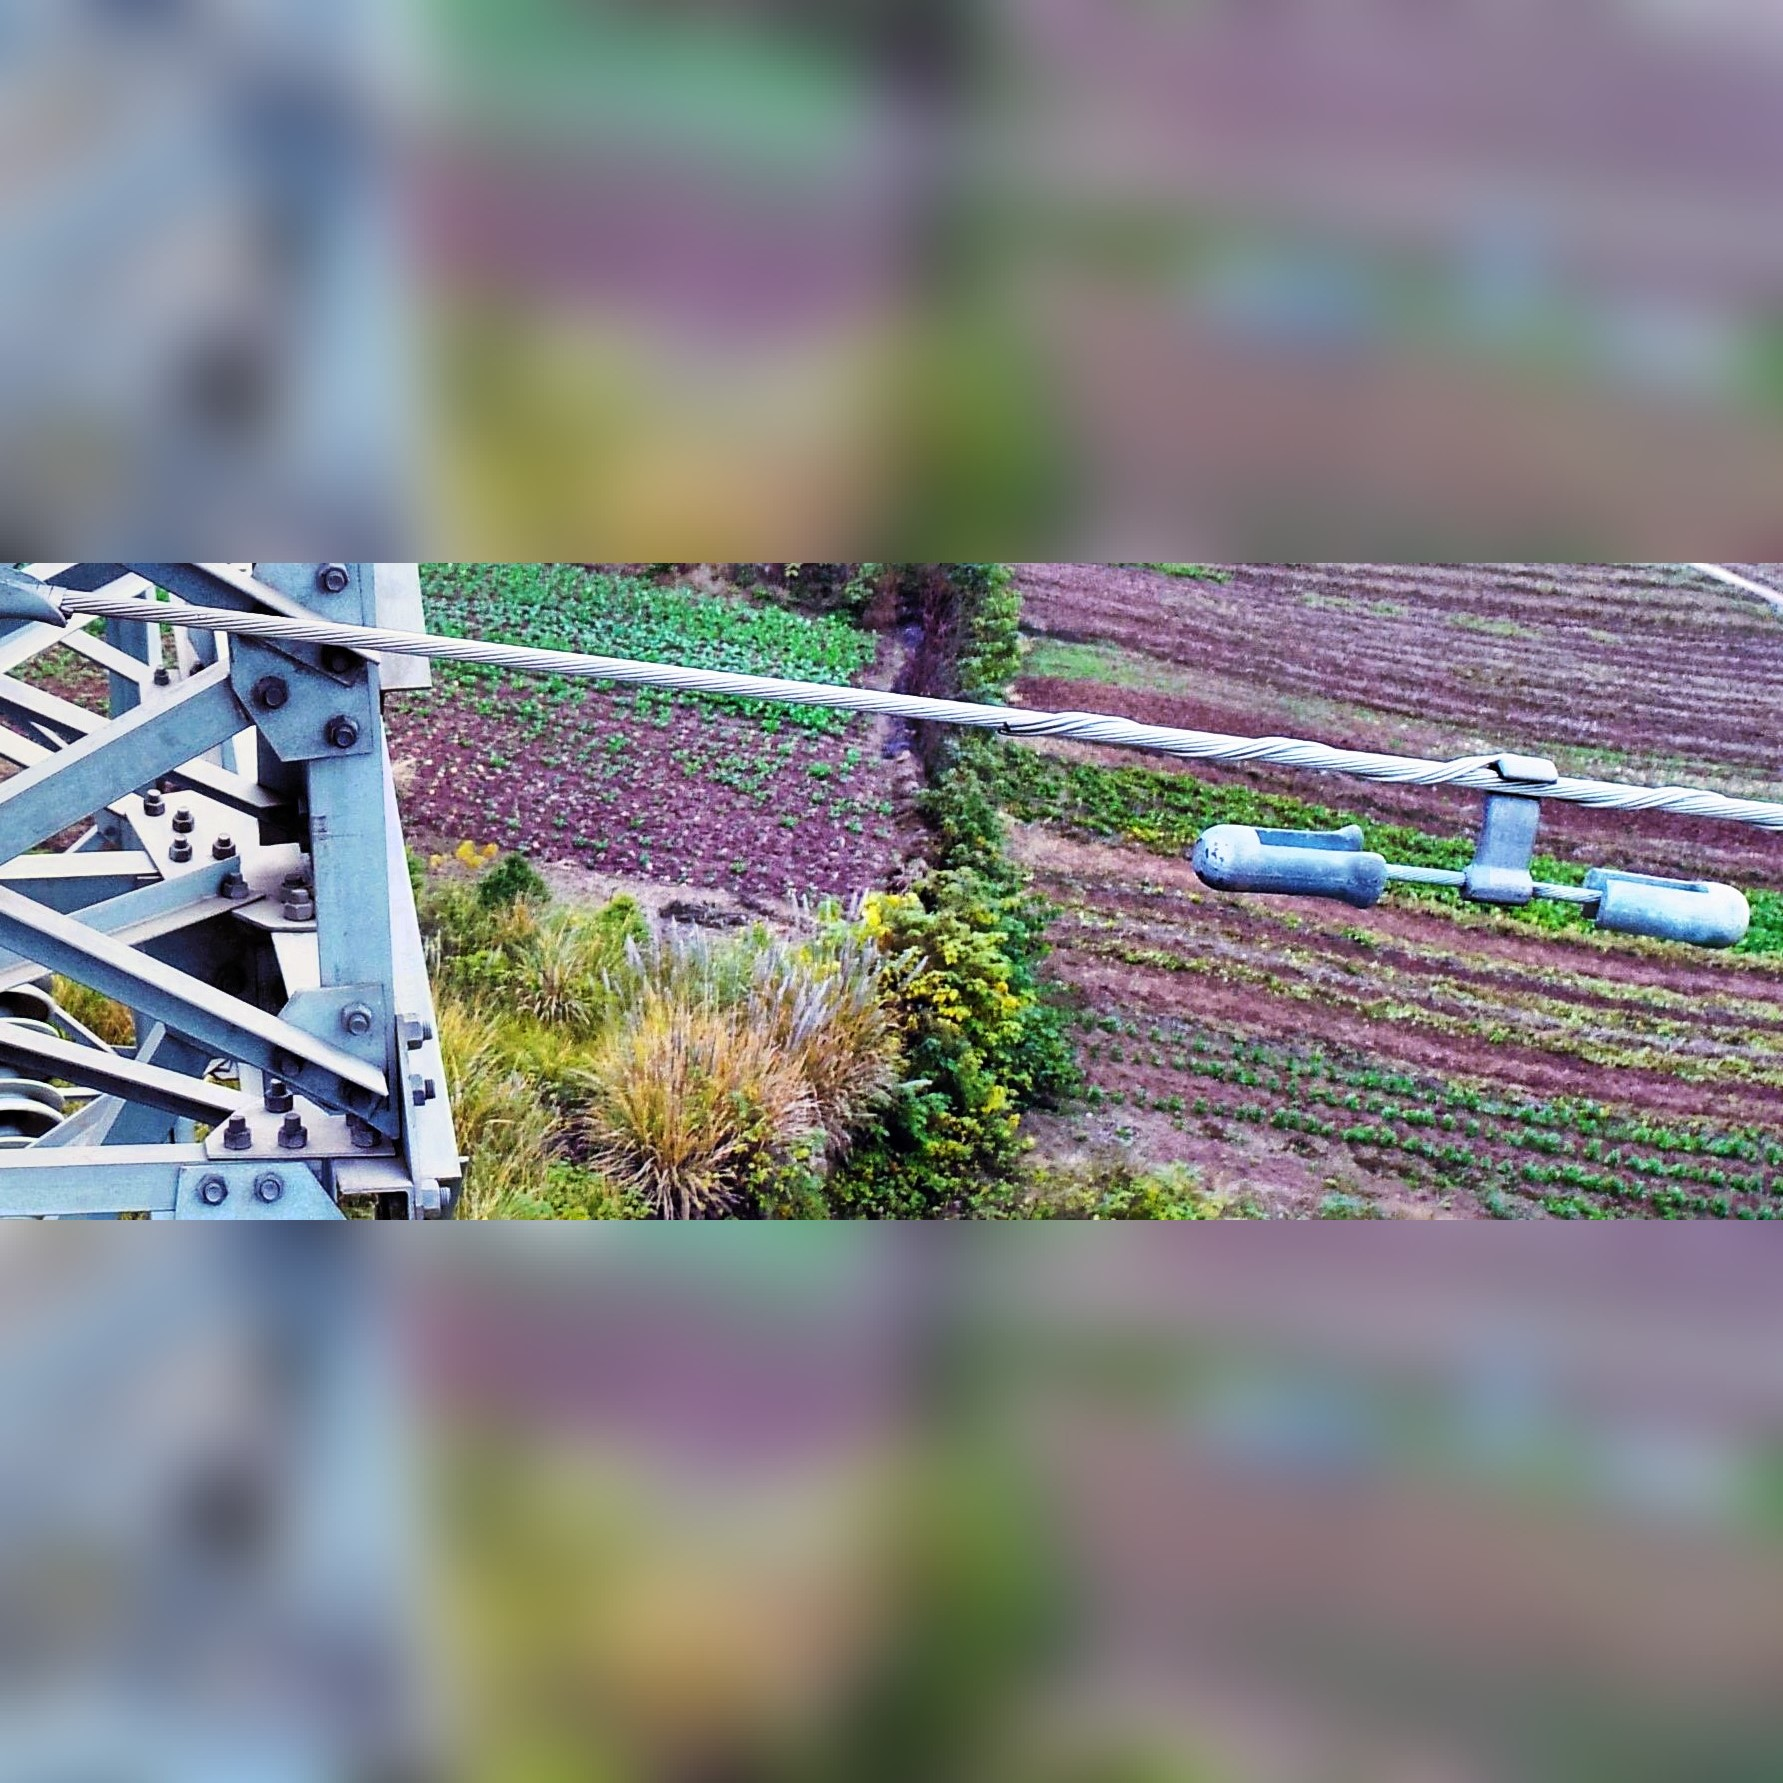Shockproof hammer: (1166, 723, 1773, 967)
